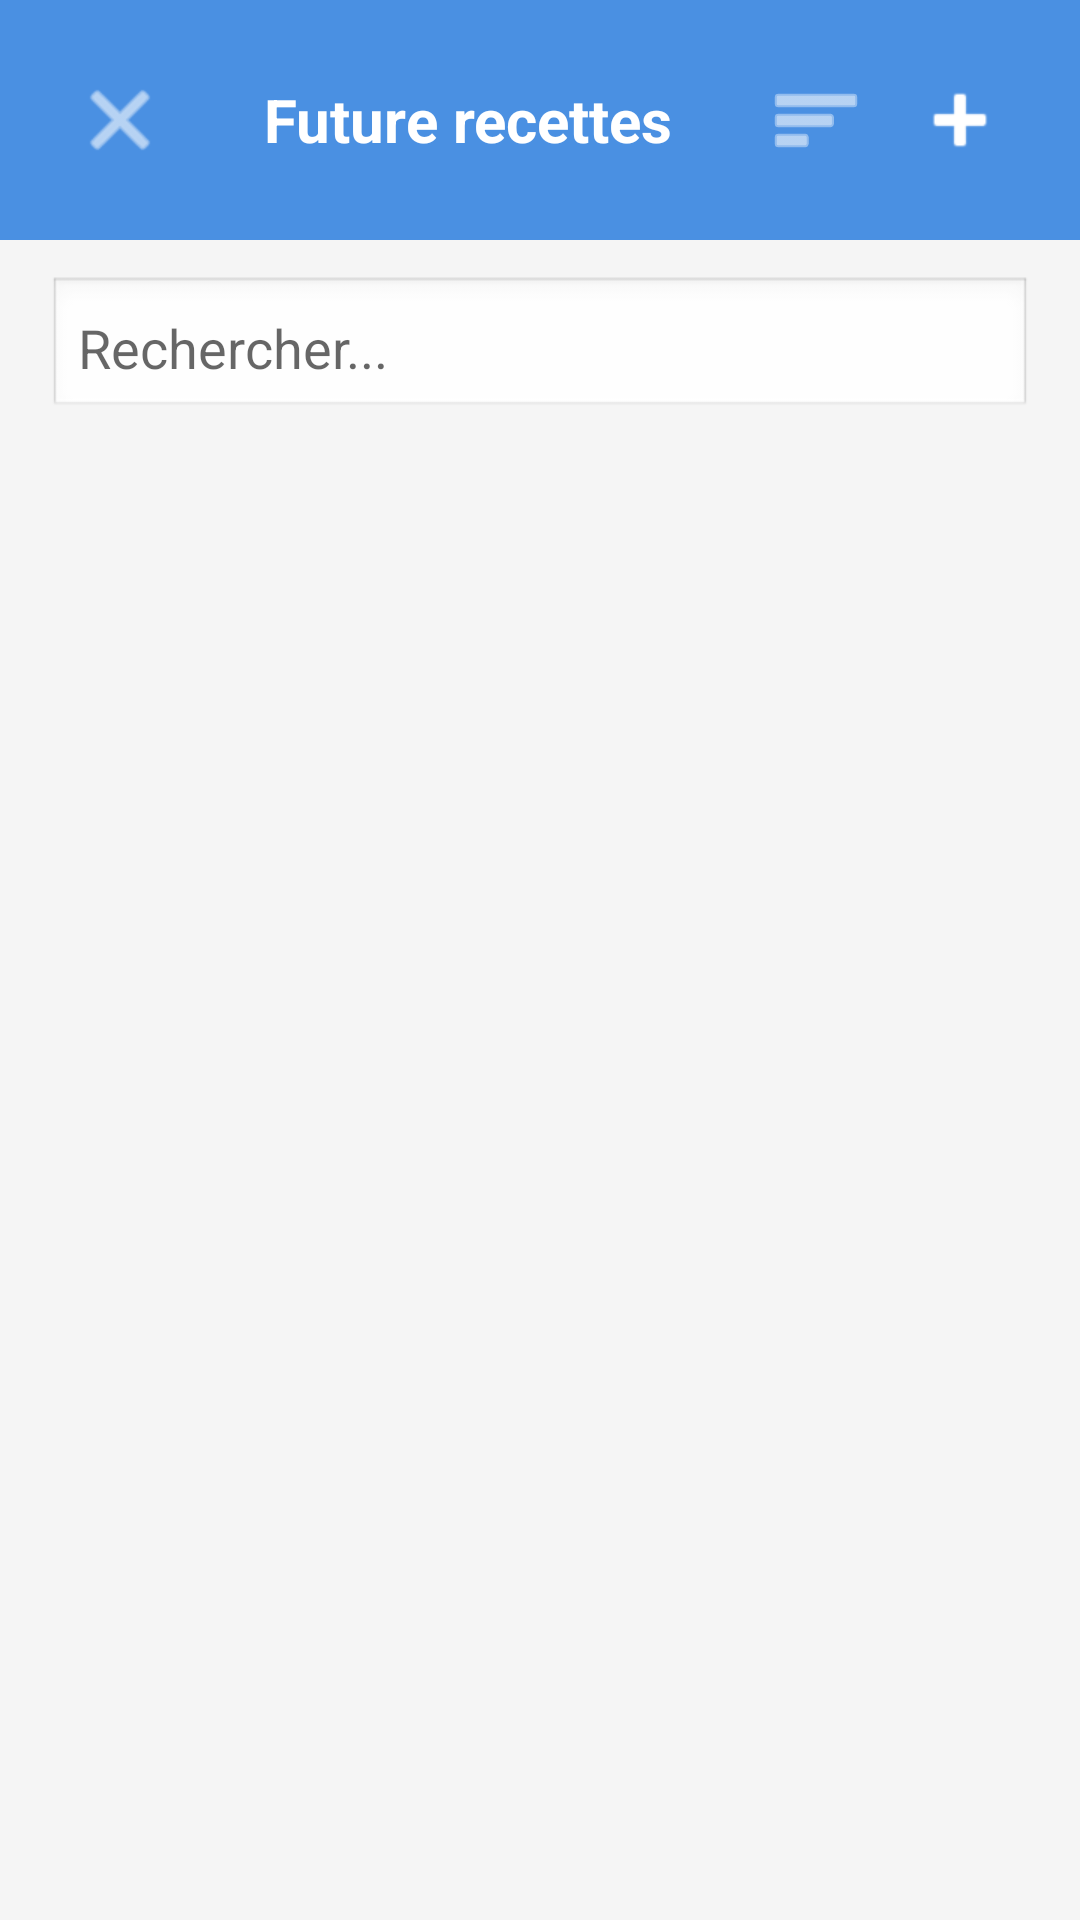

Point at icon controls on the screen. Image size 1080 x 1920, points as [x,y].
Ajouter: [960,120]
